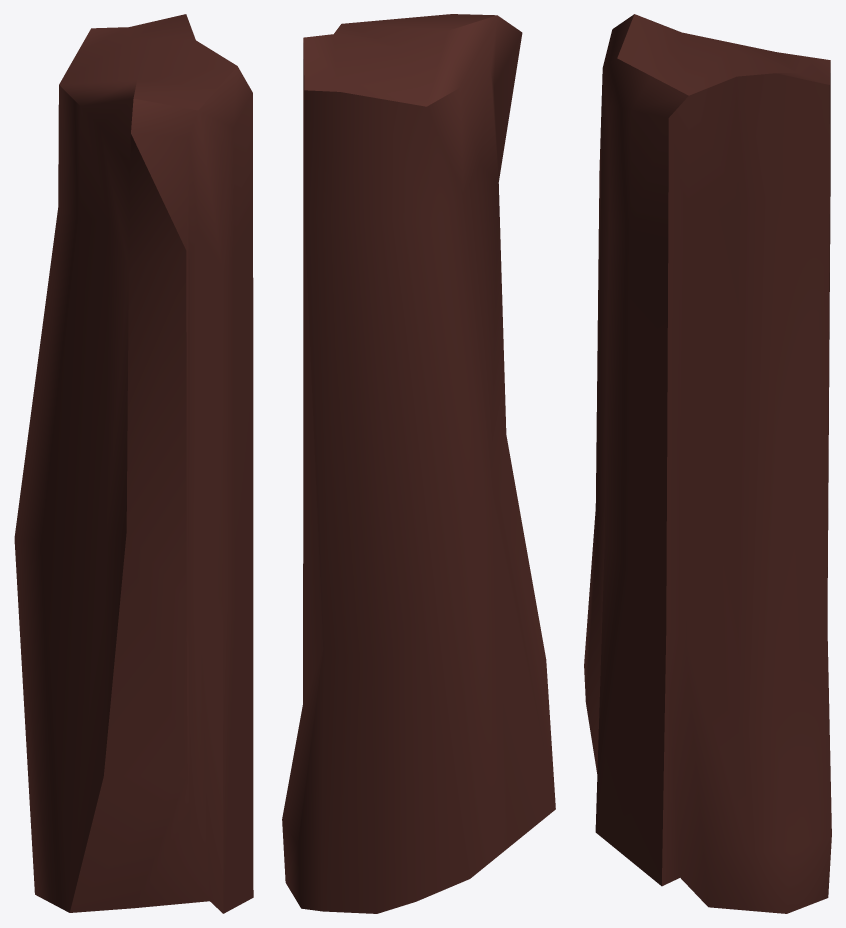
The model's file is SM_small_rock_D.fbx.
3 views of the same model, side by side, from view 1: azimuth 30°, elevation 25°; view 2: azimuth 150°, elevation 25°; view 3: azimuth 270°, elevation 25° (orthographic). The views are drawn at different scales.
Visible parts, largest first — view 1: polySurface72; view 2: polySurface72; view 3: polySurface72.
Part boxes in pixels (x1,y1,x2,y2): polySurface72: (14, 14, 253, 913); polySurface72: (282, 14, 555, 913); polySurface72: (584, 14, 831, 913).
Bounding box in the file's own units: 415 × 1681 × 452.
